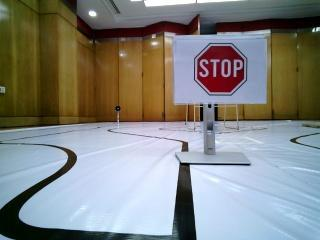stop: (175, 37, 269, 102)
